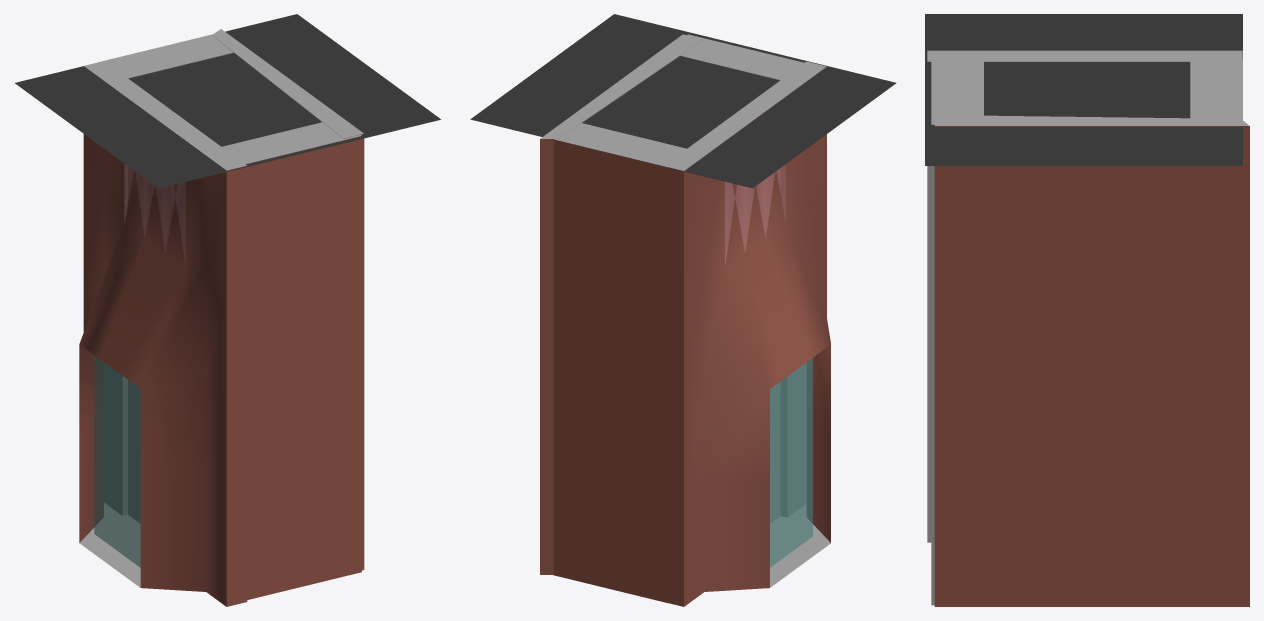
The model's file is gedung 1 sendiri.fbx.
The picture shows the model from 3 angles, left to right: view 1: azimuth 30°, elevation 25°; view 2: azimuth 150°, elevation 25°; view 3: azimuth 270°, elevation 25°; orthographic projection. The views are drawn at different scales.
Visible parts, largest first — view 1: group12_polySurface2; view 2: group12_polySurface2; view 3: group12_polySurface2.
Boxes of the visible parts, bbox=[...] form: group12_polySurface2: bbox=[15, 14, 440, 606]; group12_polySurface2: bbox=[470, 14, 896, 606]; group12_polySurface2: bbox=[925, 14, 1249, 606].
Bounding box in the file's own units: 8.36 × 12.33 × 7.54.
